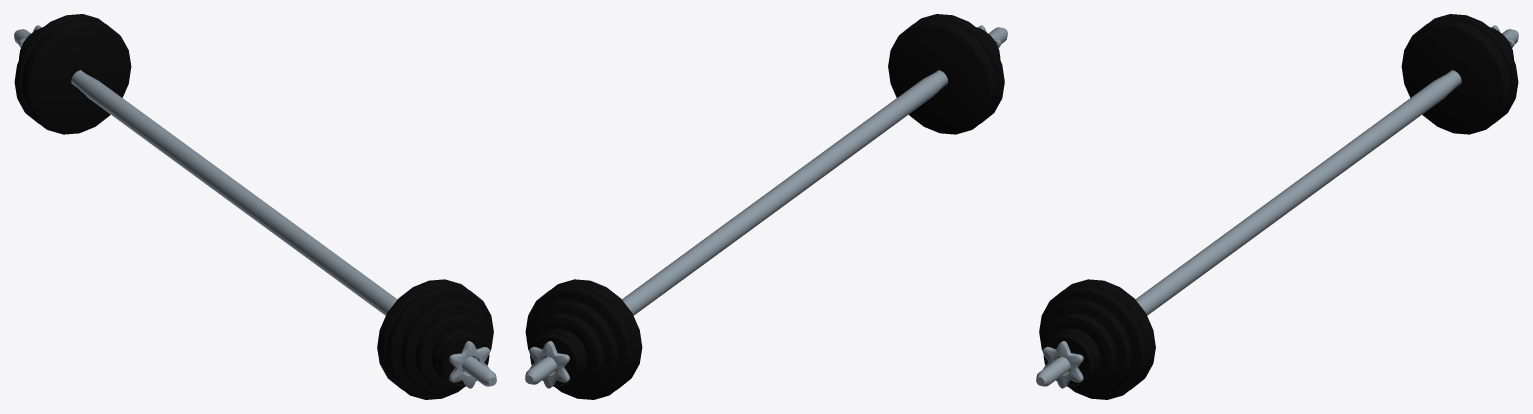
Rendered from Barbell1(FBX).FBX.
3 renders of one model, left to right at view 1: azimuth 30°, elevation 25°; view 2: azimuth 150°, elevation 25°; view 3: azimuth 330°, elevation 25°, orthographic.
Parts seen in each view (by area): view 1: Cylinder001, Cylinder012, Cylinder022, Cylinder024, Cylinder019, Cylinder023, Cylinder021, Cylinder011, Star003, Cylinder020; view 2: Cylinder001, Cylinder023, Cylinder011, Cylinder002, Cylinder004, Cylinder012, Cylinder006, Cylinder022, Star001, Cylinder005; view 3: Cylinder001, Cylinder012, Cylinder022, Cylinder024, Cylinder019, Cylinder023, Cylinder021, Cylinder011, Star003, Cylinder020.
Boxes of the visible parts, left/top/right/bottom form: Cylinder001: left=14, top=29, right=496, bottom=386; Cylinder012: left=21, top=18, right=131, bottom=134; Cylinder022: left=385, top=285, right=493, bottom=399; Cylinder024: left=400, top=299, right=491, bottom=394; Cylinder019: left=415, top=313, right=488, bottom=390; Cylinder023: left=377, top=279, right=467, bottom=390; Cylinder021: left=437, top=333, right=489, bottom=387; Cylinder011: left=14, top=14, right=103, bottom=123; Star003: left=449, top=341, right=490, bottom=388; Cylinder020: left=431, top=328, right=475, bottom=380; Cylinder001: left=525, top=27, right=1007, bottom=384; Cylinder023: left=888, top=18, right=998, bottom=134; Cylinder011: left=525, top=285, right=633, bottom=399; Cylinder002: left=528, top=299, right=618, bottom=394; Cylinder004: left=531, top=313, right=604, bottom=390; Cylinder012: left=551, top=279, right=642, bottom=390; Cylinder006: left=530, top=333, right=581, bottom=387; Cylinder022: left=915, top=14, right=1004, bottom=123; Star001: left=529, top=341, right=569, bottom=388; Cylinder005: left=543, top=328, right=587, bottom=380; Cylinder001: left=1036, top=29, right=1518, bottom=386; Cylinder012: left=1401, top=18, right=1511, bottom=134; Cylinder022: left=1039, top=285, right=1147, bottom=399; Cylinder024: left=1041, top=299, right=1132, bottom=394; Cylinder019: left=1044, top=313, right=1117, bottom=390; Cylinder023: left=1064, top=279, right=1155, bottom=389; Cylinder021: left=1043, top=333, right=1095, bottom=387; Cylinder011: left=1429, top=14, right=1518, bottom=123; Star003: left=1042, top=341, right=1083, bottom=388; Cylinder020: left=1057, top=328, right=1101, bottom=380.
Bounding box in the file's own units: 10.92 × 10.92 × 85.58.
